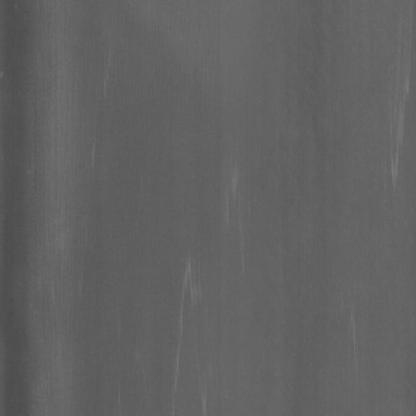silk_spot: (169, 148, 254, 416)
